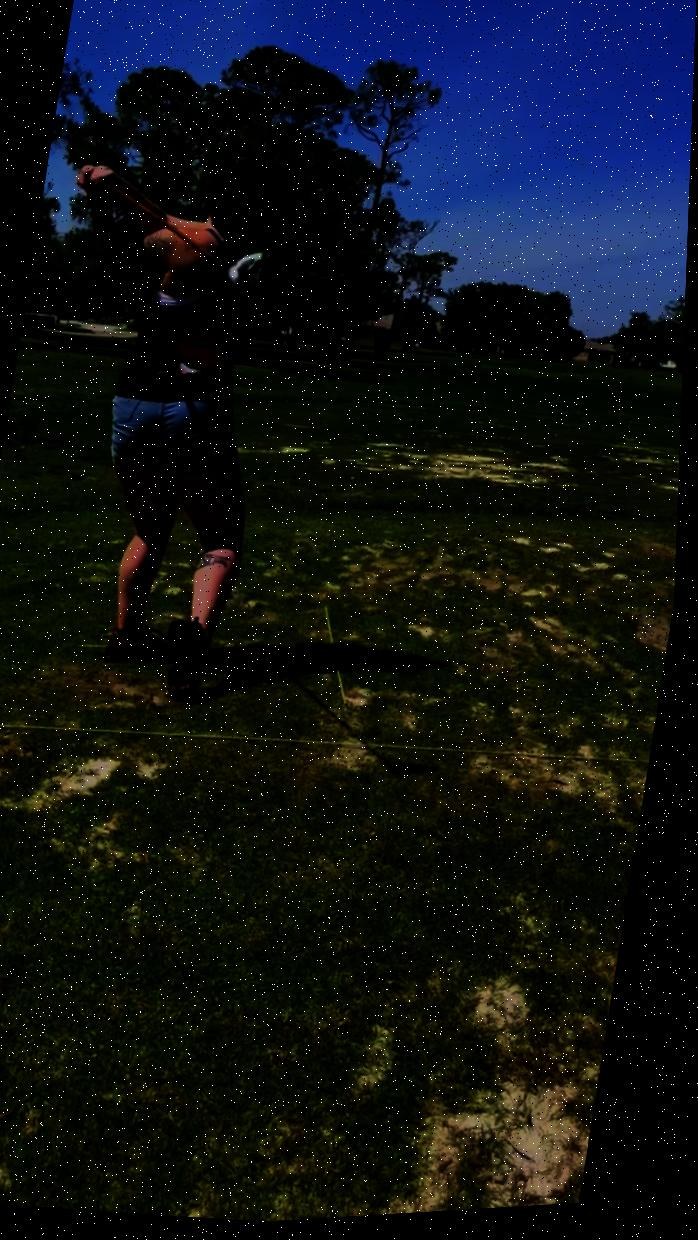ClubHead: (214, 239, 295, 340)
